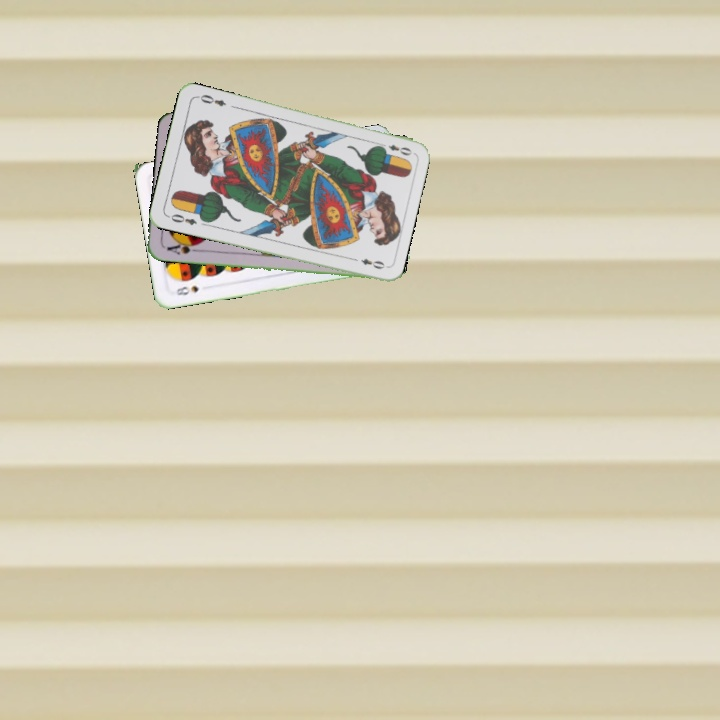EO: (375, 140, 415, 158), (164, 210, 199, 228)
S8: (172, 281, 201, 298)
SA: (163, 238, 202, 257)
